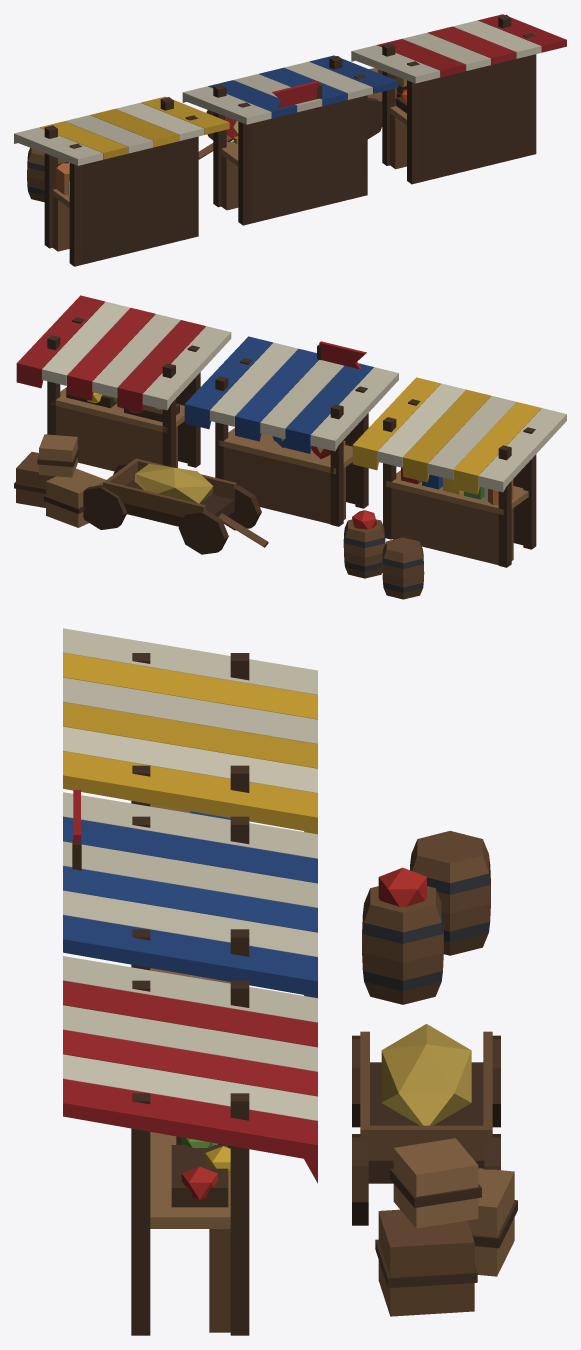
File: Decor_KnightCastle_Market.fbx
The picture shows the model from 3 angles, top to bottom: view 1: azimuth 30°, elevation 25°; view 2: azimuth 150°, elevation 25°; view 3: azimuth 270°, elevation 25°; orthographic projection. The views are drawn at different scales.
Visible parts, largest first — view 1: Market_Body; view 2: Market_Body; view 3: Market_Body.
Boxes of the visible parts, box(x1,y1,x2,y2) form: Market_Body: box(14, 14, 566, 266); Market_Body: box(14, 295, 566, 599); Market_Body: box(63, 628, 517, 1335).
Bounding box in the file's own units: 23.2 × 6.3 × 9.4.
